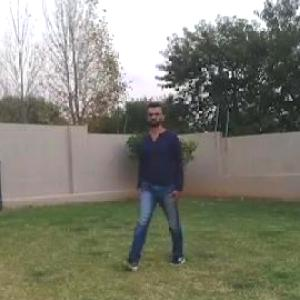follow: (139, 99, 175, 244)
